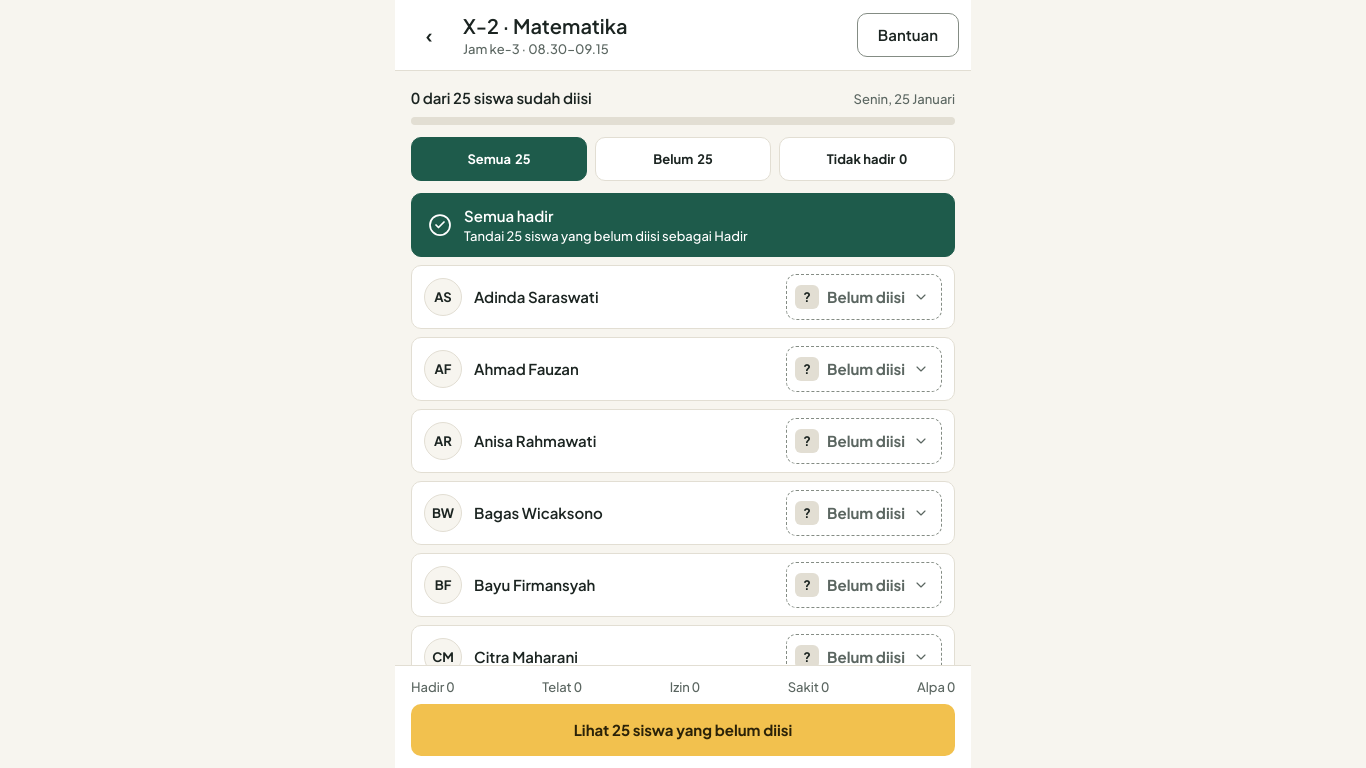
Scenario: step 3: Semua hadir › a choice made after it removes the toast, so Urungkan cannot undo the choice by accident
Step 1. Click the button "Semua hadir Tandai 25 siswa yang belum diisi sebagai Hadir" → click(683, 225), box [411, 193, 955, 257]
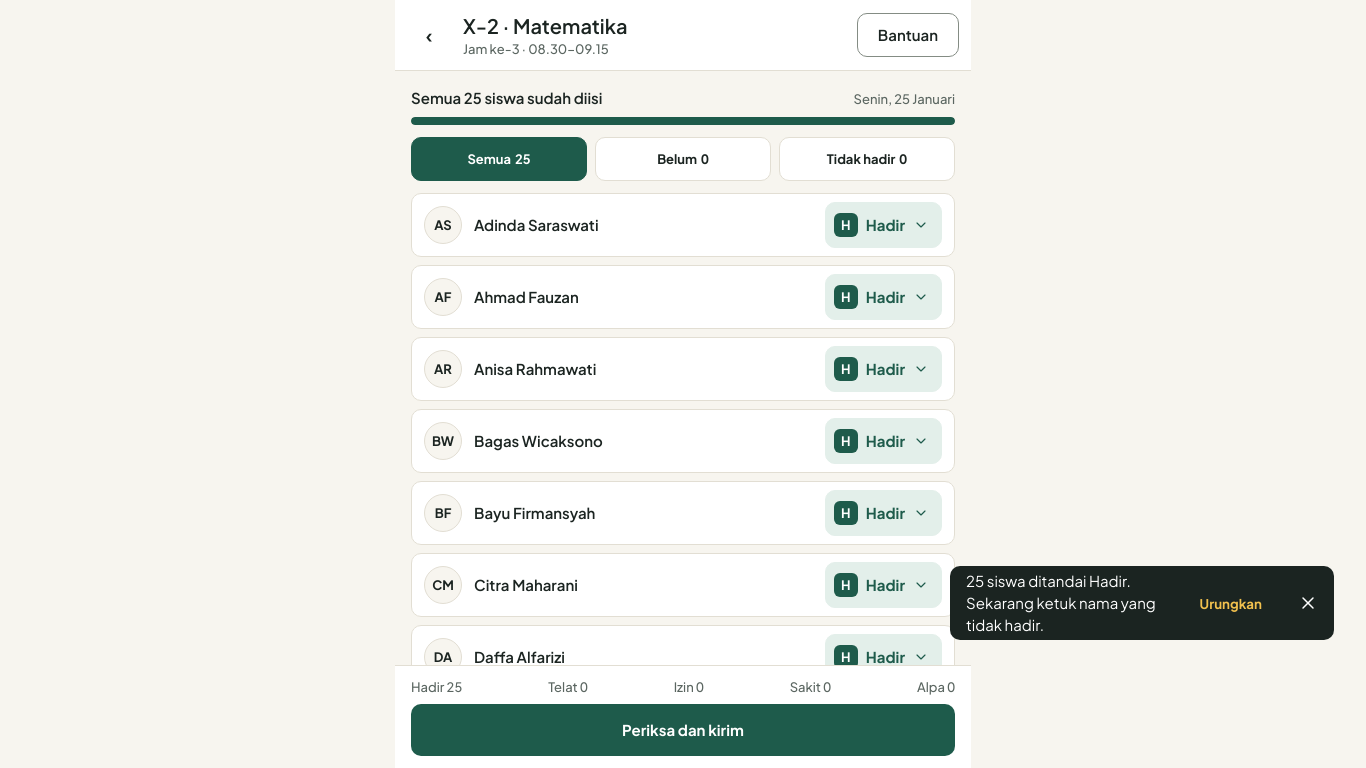
Now the button "Urungkan" is shown, box [1184, 581, 1278, 625]
Step 2. Click the button "AF Ahmad Fauzan H Hadir" → click(443, 297), box [411, 265, 955, 329]
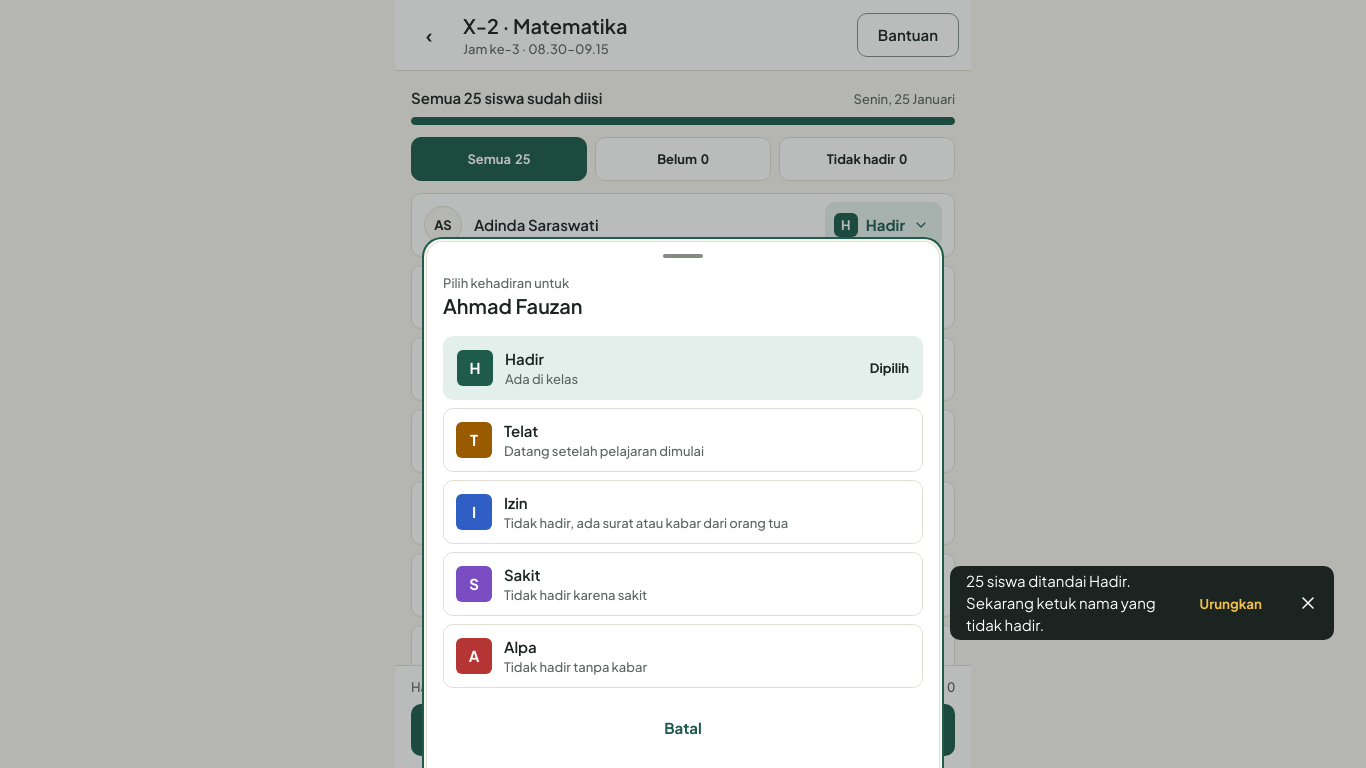
Step 3. Click the button "A Alpa Tidak hadir tanpa kabar" → click(474, 656), box [443, 624, 923, 688]
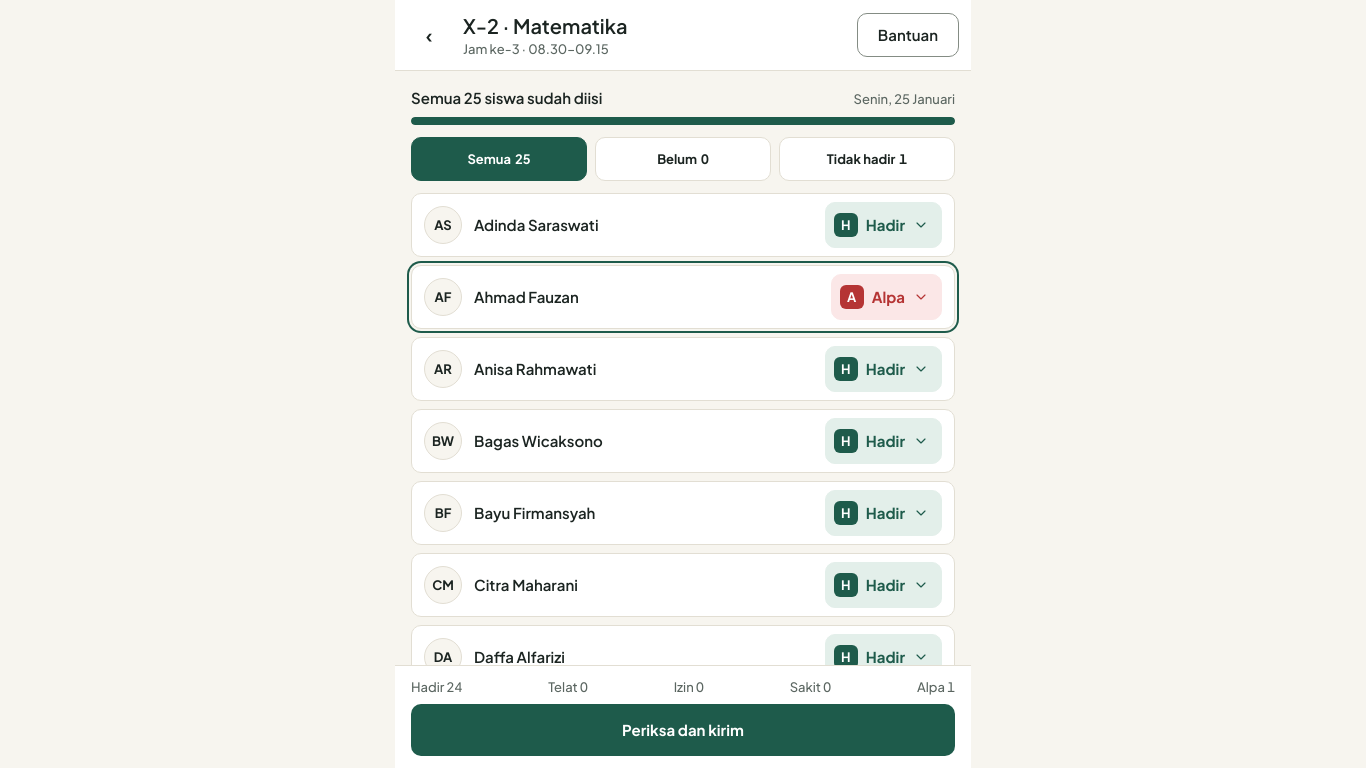
Now the dialog is gone
Now the button "Urungkan" is gone
